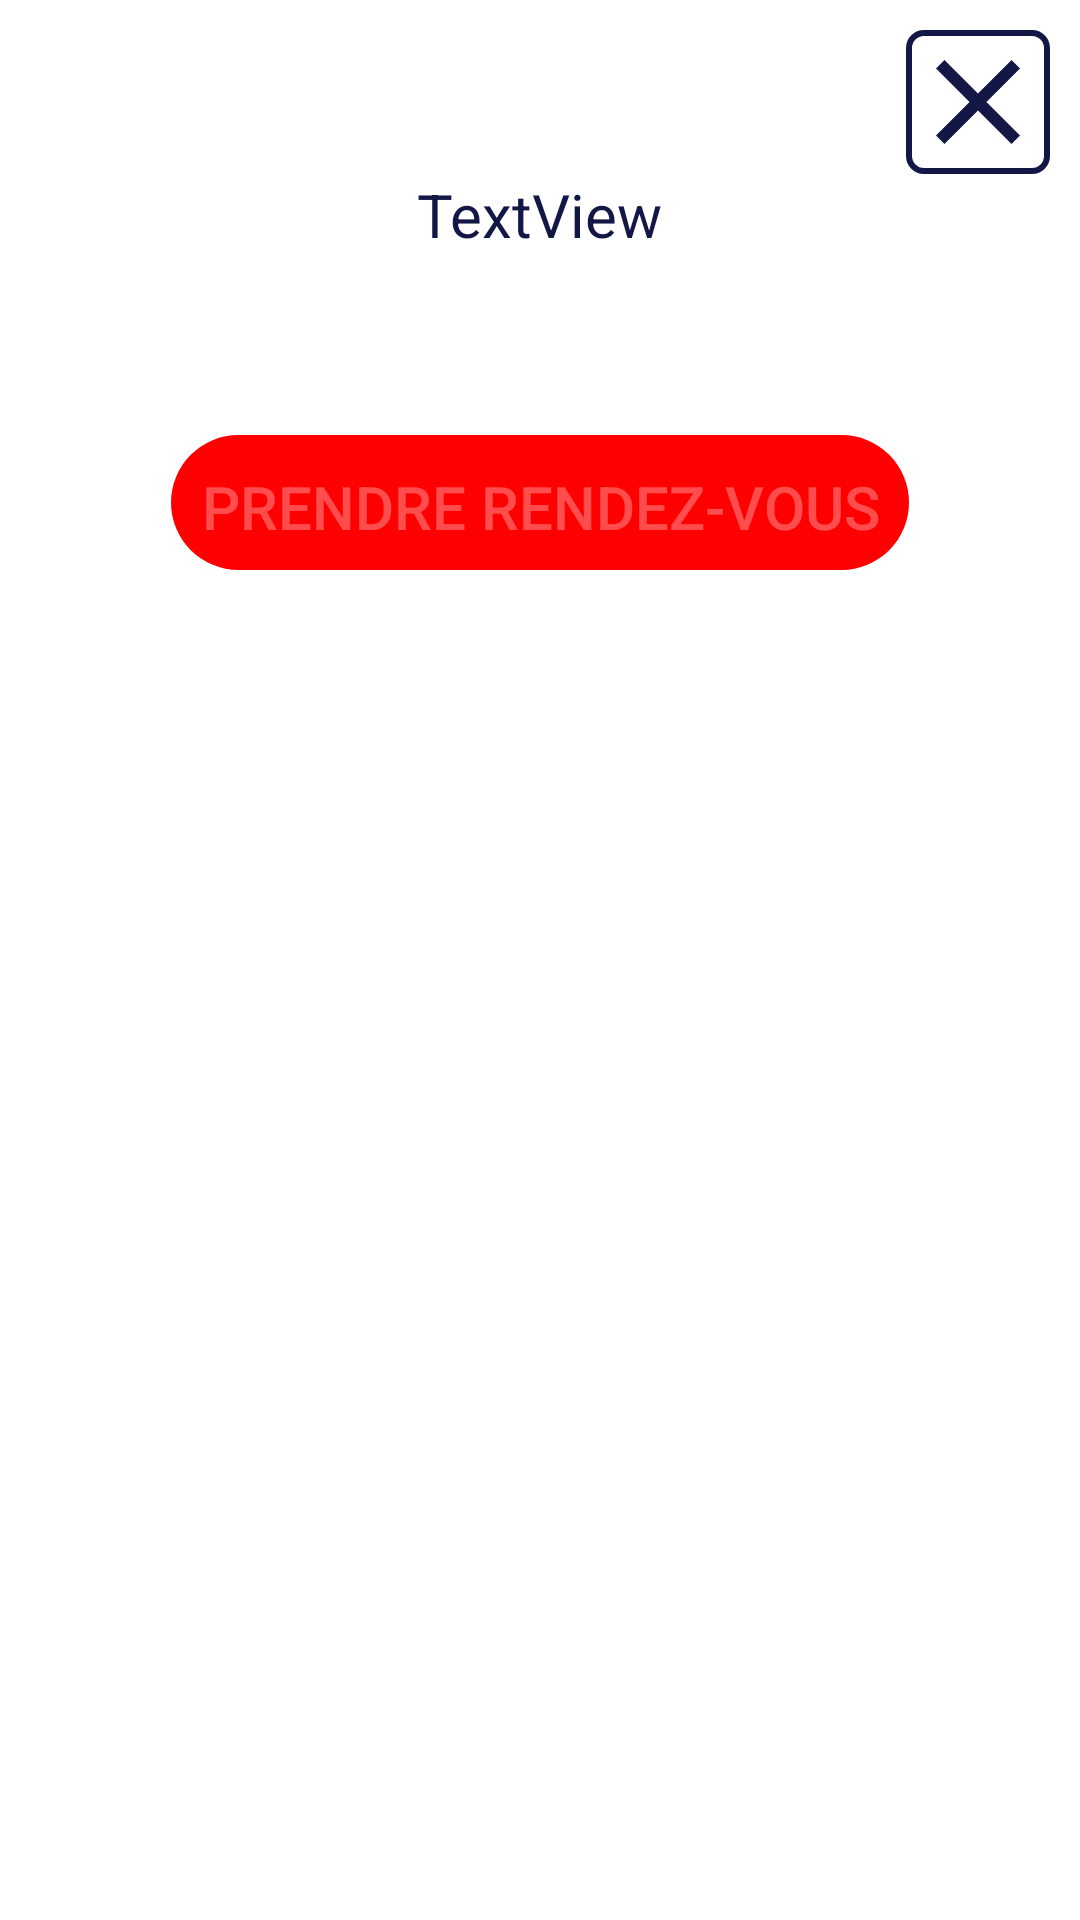

Icon click points for this 1080px x 1920px phone screenshot, format (x,y):
close: (978,102)
